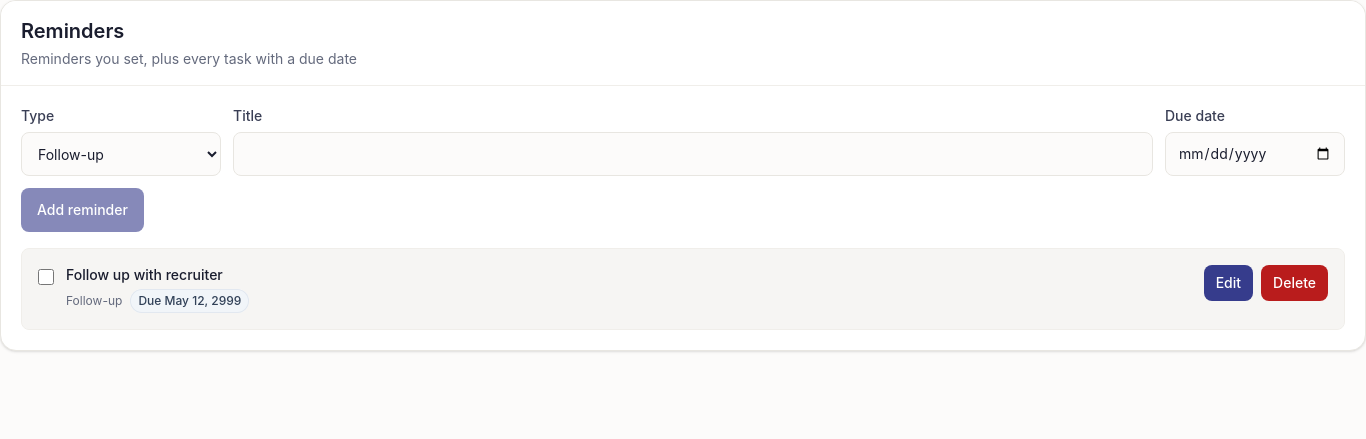
JobDetailRemindersPanel › edits a stored reminder in place
Click the button with aria-label "Edit reminder Follow up with recruiter".
click(1228, 283)  # box [1204, 265, 1253, 301]
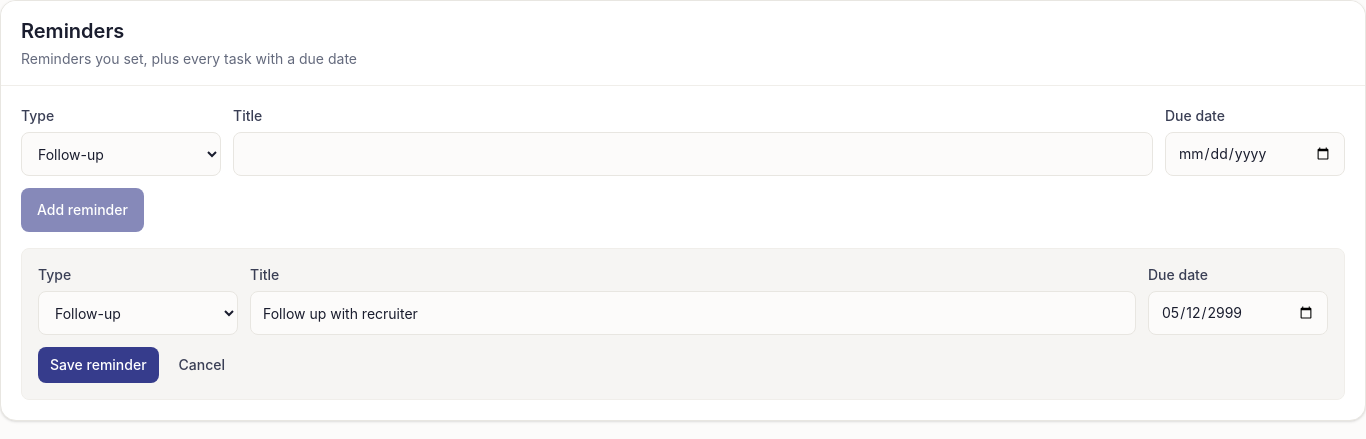
Replace the text in the 2nd field labelled "Title" with "Call recruiter" at (693, 313), box [250, 291, 1136, 335]
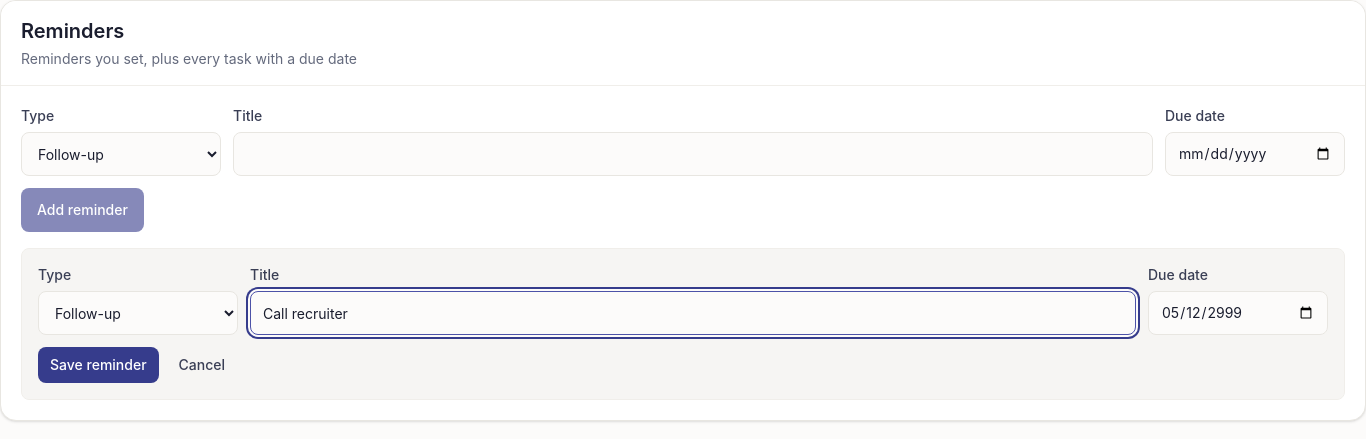
Click the button "Save reminder".
click(98, 365)  # box [38, 347, 159, 383]
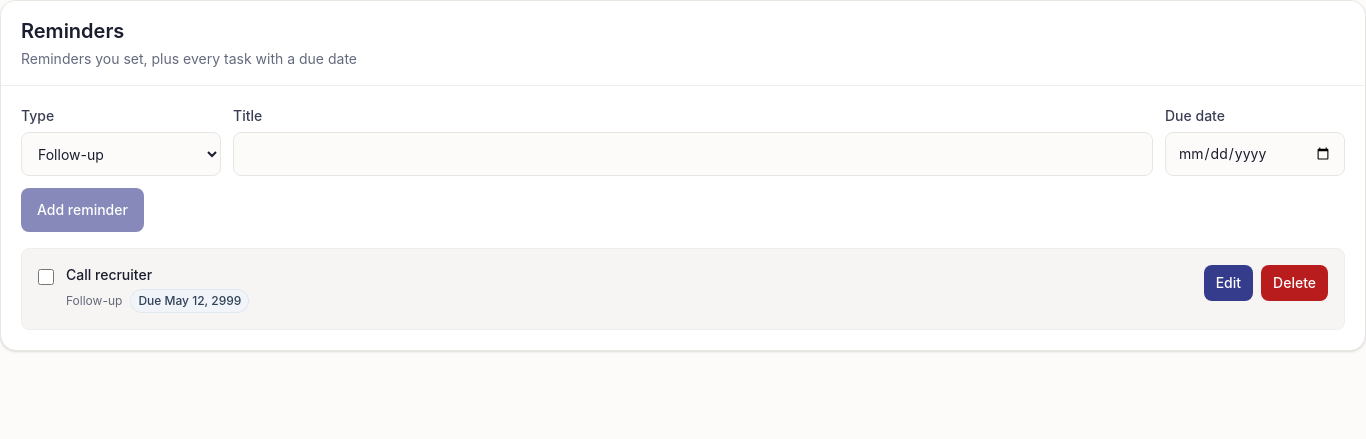
Check: the text "Call recruiter" is shown, box [66, 266, 152, 283]
Check: the button "Save reminder" is gone
